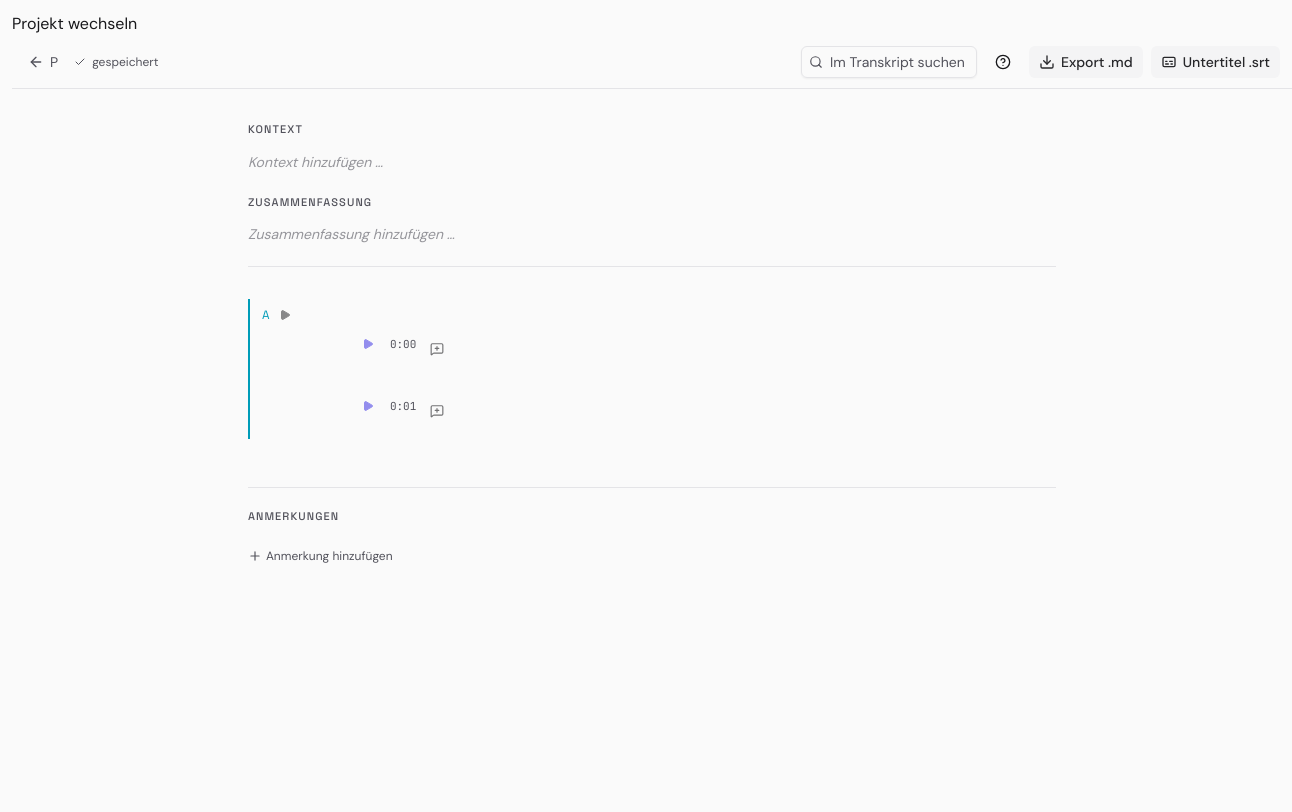
setzt eine neue Suchquery auf den ersten Treffer
Type "s" into the field with placeholder "Im Transkript suchen …". click: x=889, y=62
box: [801,46,977,78]
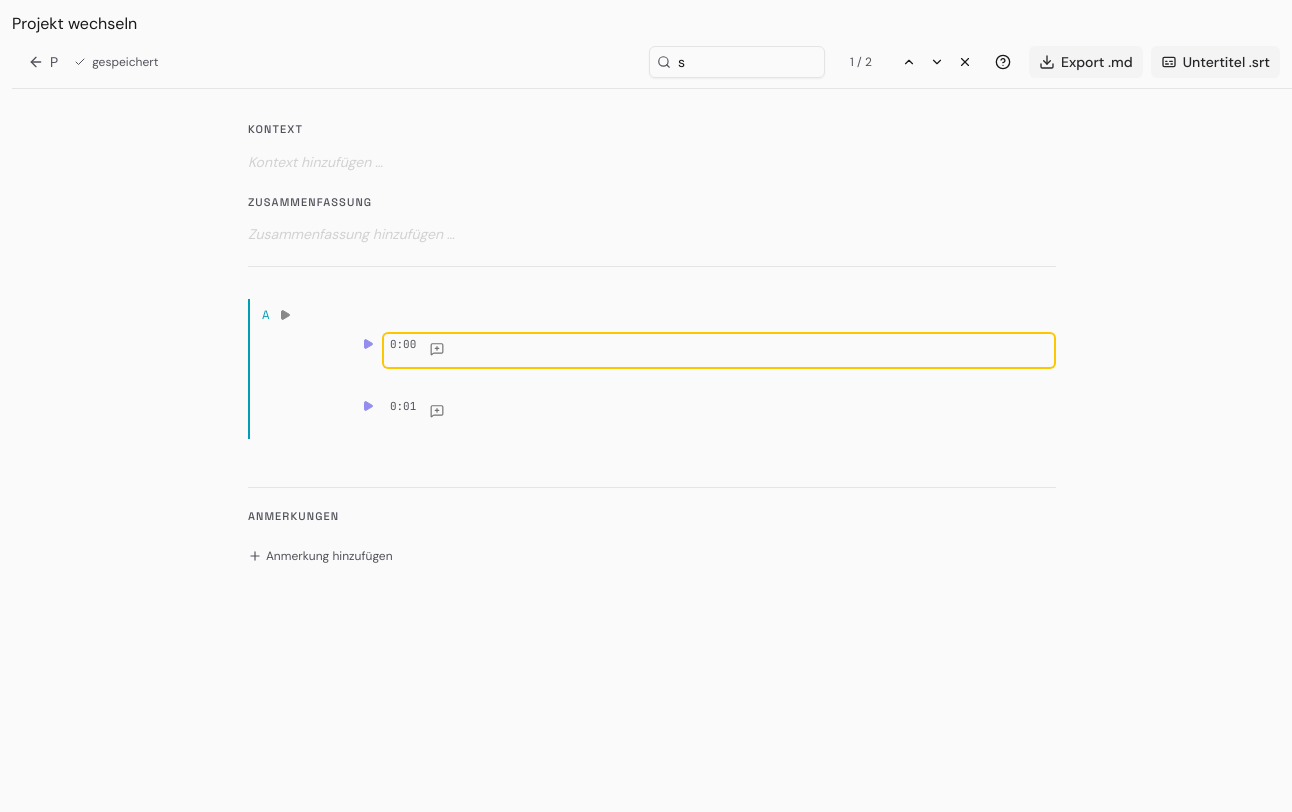
Click the button named "Nächster Treffer". click: x=937, y=62
box: [925,50,949,74]
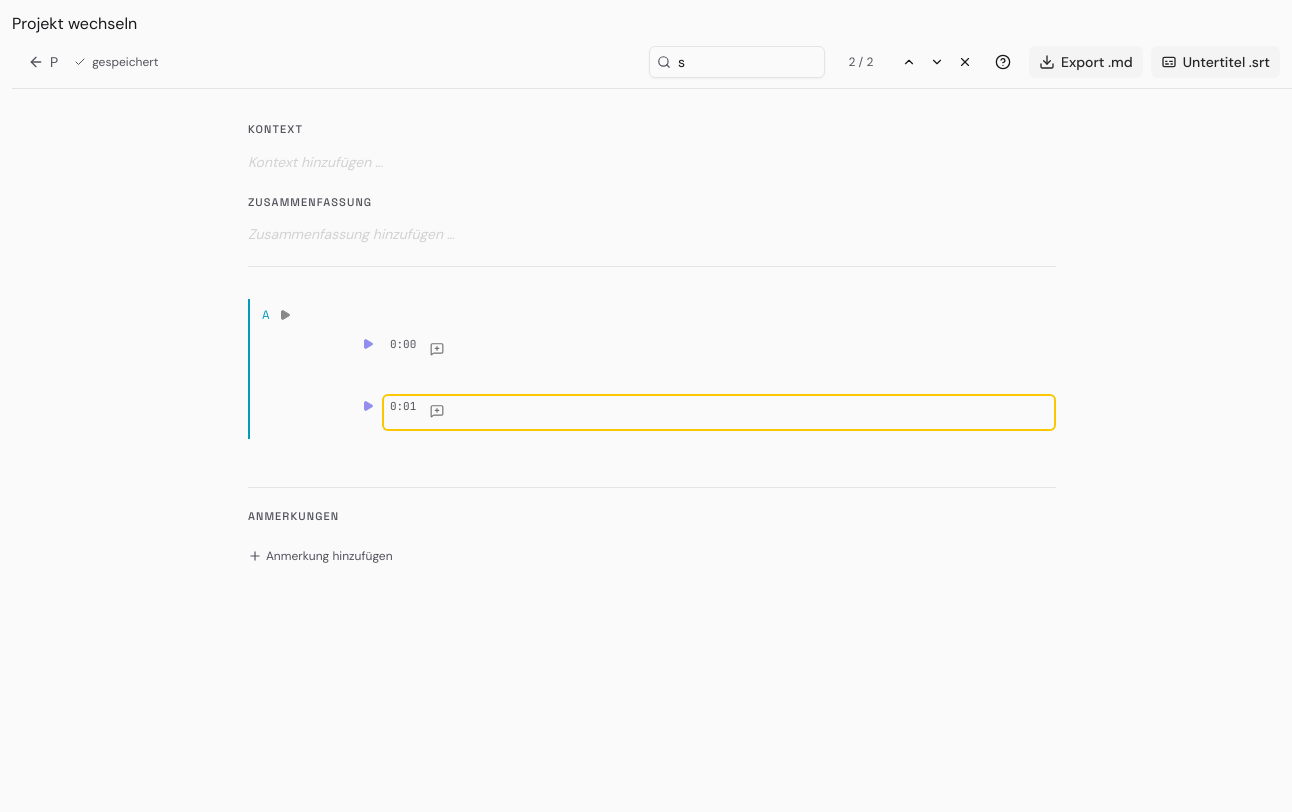
Now the text "2 / 2" is shown, box [848,54,873,70]
Replace the text in the field with placeholder "Im Transkript suchen …" with "S". click: x=737, y=62
box: [649,46,825,78]
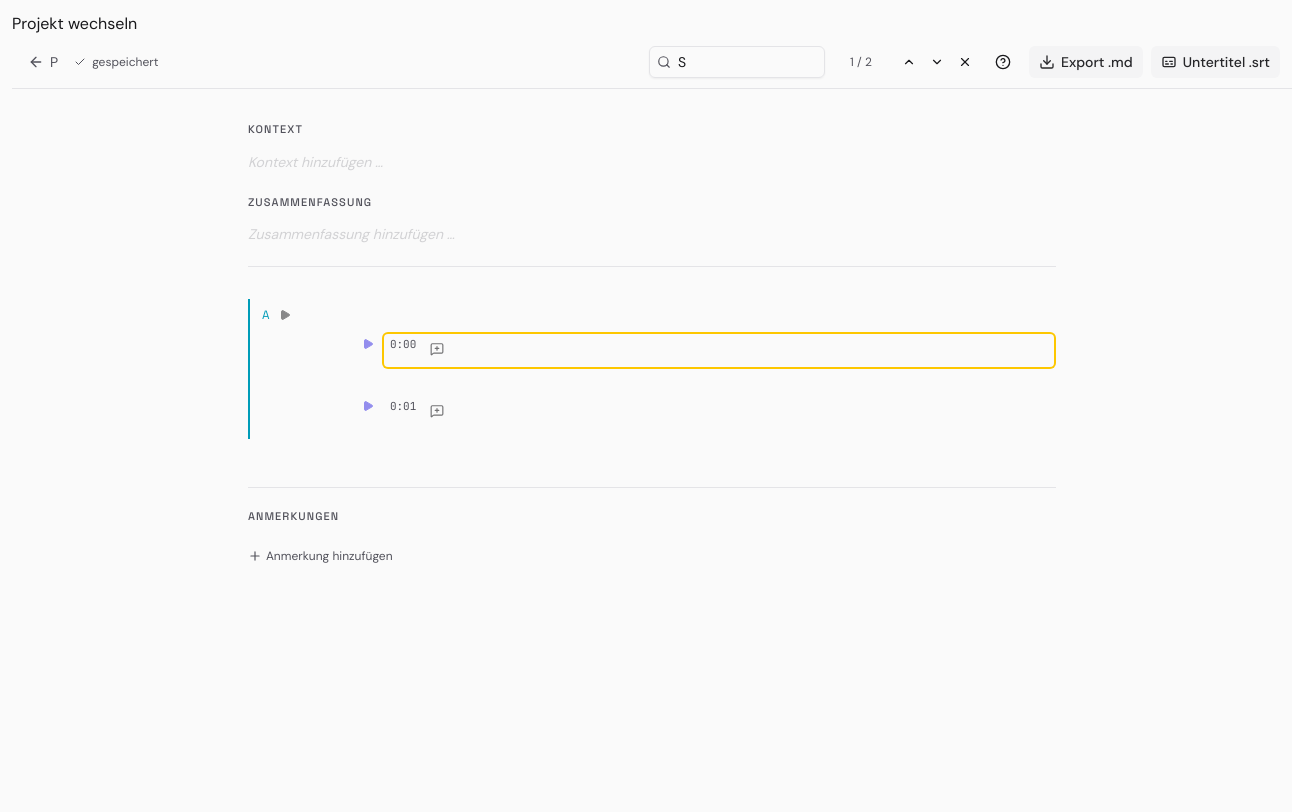
Now the text "1 / 2" is shown, box [850,54,872,70]
